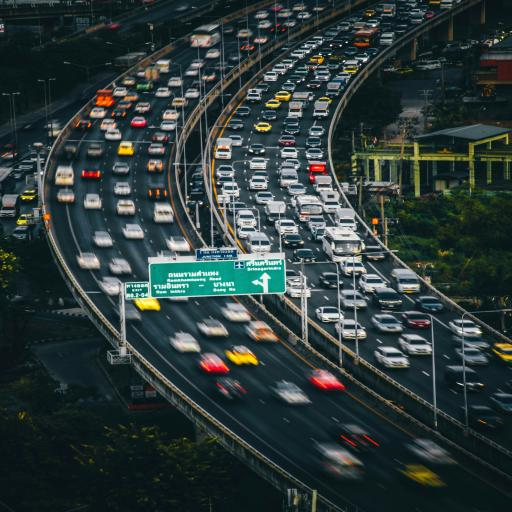car: (396, 463, 446, 491), (328, 424, 378, 452), (405, 439, 454, 465), (444, 366, 484, 392), (270, 381, 310, 405), (468, 406, 504, 431), (214, 377, 246, 401), (307, 370, 344, 390), (375, 347, 409, 368), (399, 334, 432, 355), (245, 321, 278, 342), (372, 288, 402, 310), (335, 319, 366, 339), (169, 332, 200, 352), (226, 346, 258, 365), (455, 348, 489, 365), (371, 314, 403, 332), (197, 319, 228, 337), (200, 354, 228, 373), (449, 319, 482, 335), (221, 303, 250, 321), (359, 274, 386, 293), (416, 296, 444, 313), (341, 291, 367, 309), (402, 312, 430, 328), (489, 393, 511, 413), (316, 307, 344, 322), (464, 335, 490, 351), (340, 260, 366, 276), (492, 343, 511, 364), (99, 277, 121, 295), (77, 253, 100, 269), (166, 237, 190, 252), (287, 282, 311, 297), (109, 258, 131, 274), (275, 220, 298, 235), (122, 224, 144, 239), (363, 246, 385, 261), (13, 225, 34, 240), (134, 298, 160, 310), (125, 302, 141, 321), (319, 272, 338, 288), (149, 184, 167, 200), (294, 249, 316, 262), (237, 211, 256, 226), (283, 234, 304, 247), (229, 200, 247, 215), (117, 200, 135, 215), (255, 192, 275, 205), (222, 183, 239, 197), (238, 226, 257, 238), (307, 216, 326, 228), (287, 184, 306, 196), (250, 177, 267, 190), (114, 182, 130, 195), (118, 142, 134, 155), (87, 144, 103, 157), (58, 189, 74, 202), (306, 148, 323, 160), (113, 162, 130, 174), (217, 165, 234, 177), (21, 190, 38, 202), (287, 75, 305, 86), (250, 157, 266, 169), (281, 147, 298, 158), (75, 120, 92, 131), (286, 269, 300, 282), (306, 136, 321, 148), (153, 132, 168, 144), (105, 129, 121, 140), (134, 102, 150, 113), (163, 109, 179, 120), (149, 143, 165, 154), (160, 120, 176, 131), (131, 117, 147, 128), (227, 119, 243, 130), (90, 107, 106, 118), (279, 136, 296, 146), (17, 215, 34, 225), (254, 122, 271, 132), (309, 126, 324, 137), (148, 160, 163, 171), (285, 124, 300, 135), (254, 82, 269, 93), (82, 169, 100, 178), (172, 97, 188, 107), (249, 144, 265, 154), (275, 91, 291, 101), (229, 135, 243, 146), (137, 80, 152, 90), (284, 117, 299, 127), (235, 106, 250, 116), (262, 111, 277, 121), (168, 77, 183, 87), (355, 53, 370, 63), (395, 67, 413, 75), (310, 55, 324, 65), (282, 82, 296, 92), (185, 88, 199, 98), (264, 72, 278, 82), (117, 100, 131, 110), (111, 108, 126, 117), (266, 100, 281, 109), (344, 47, 359, 56), (205, 49, 220, 58), (394, 25, 408, 34), (270, 3, 284, 12), (156, 88, 170, 97), (307, 80, 321, 89), (124, 93, 139, 101), (297, 12, 312, 20), (255, 10, 268, 19), (338, 22, 351, 31), (228, 53, 242, 61), (122, 77, 136, 85), (365, 48, 378, 56), (364, 9, 376, 17), (425, 11, 434, 18)
